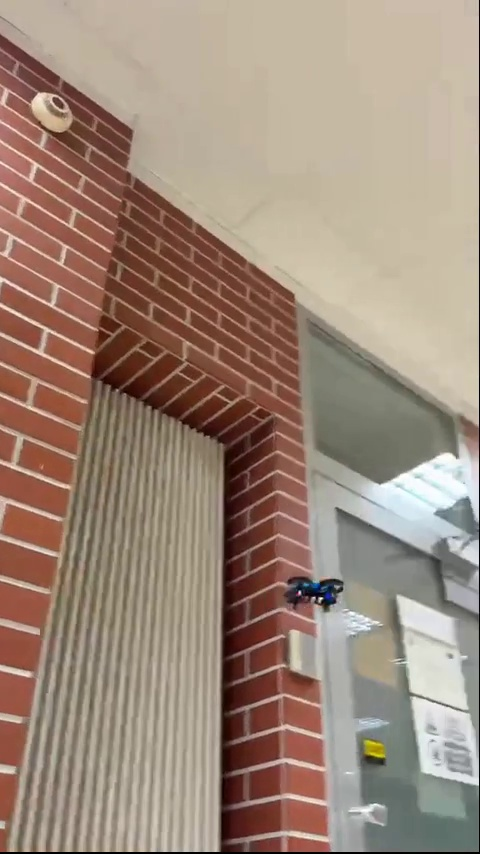drone: (284, 571, 341, 610)
